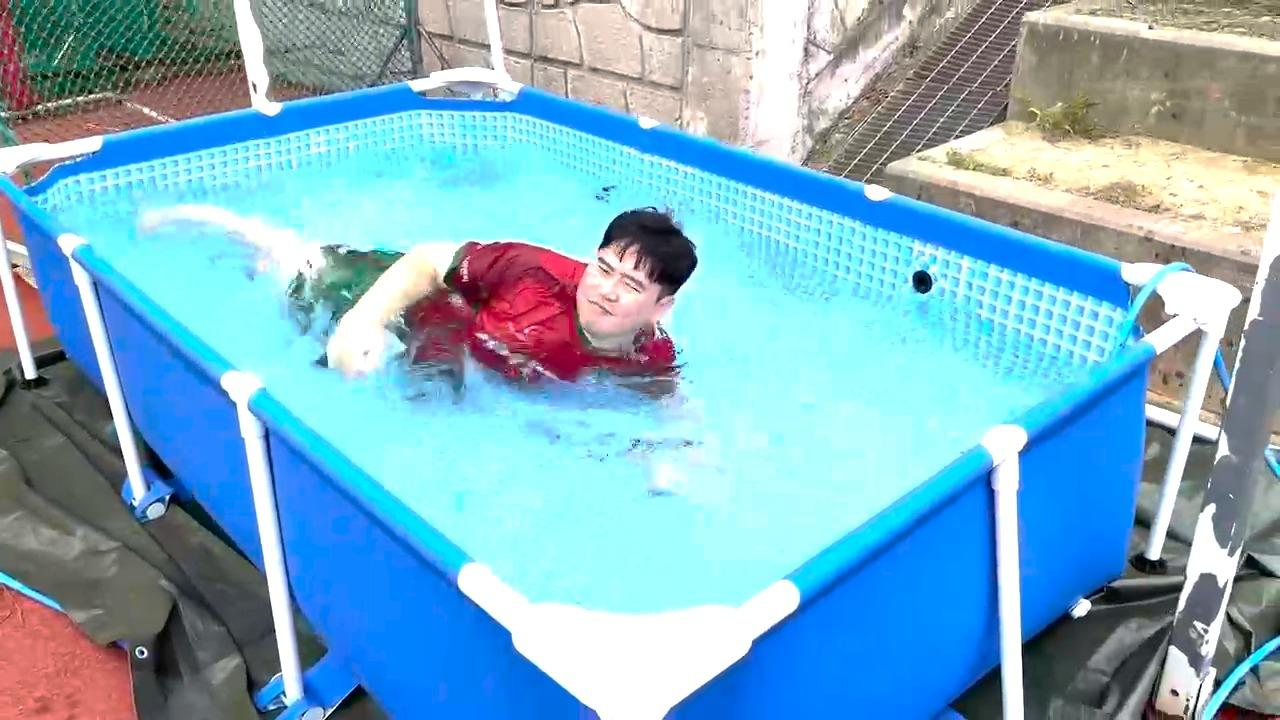Swimming: (123, 150, 760, 508)
